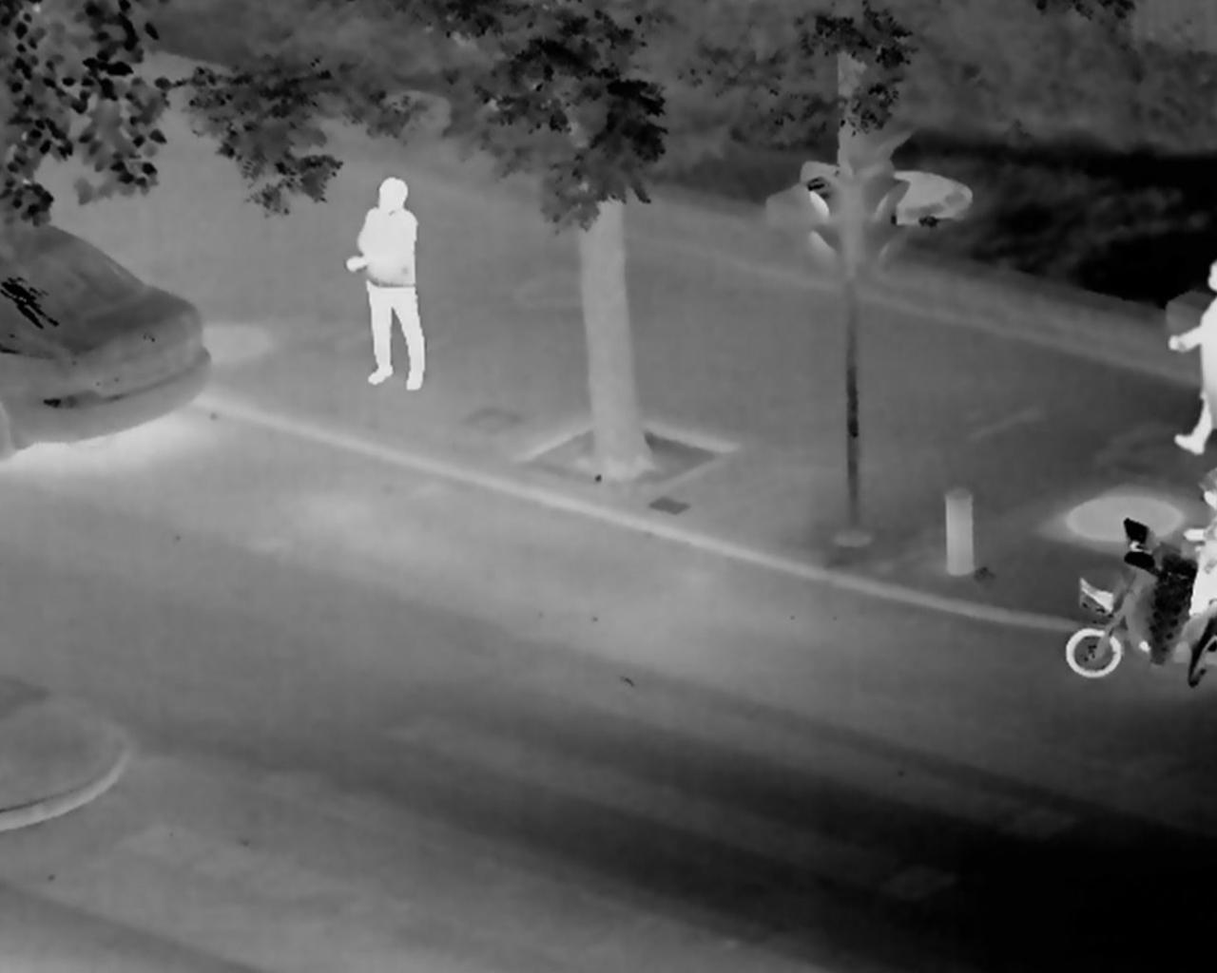person: (339, 177, 439, 413), (1174, 238, 1217, 473), (1177, 490, 1217, 606)
